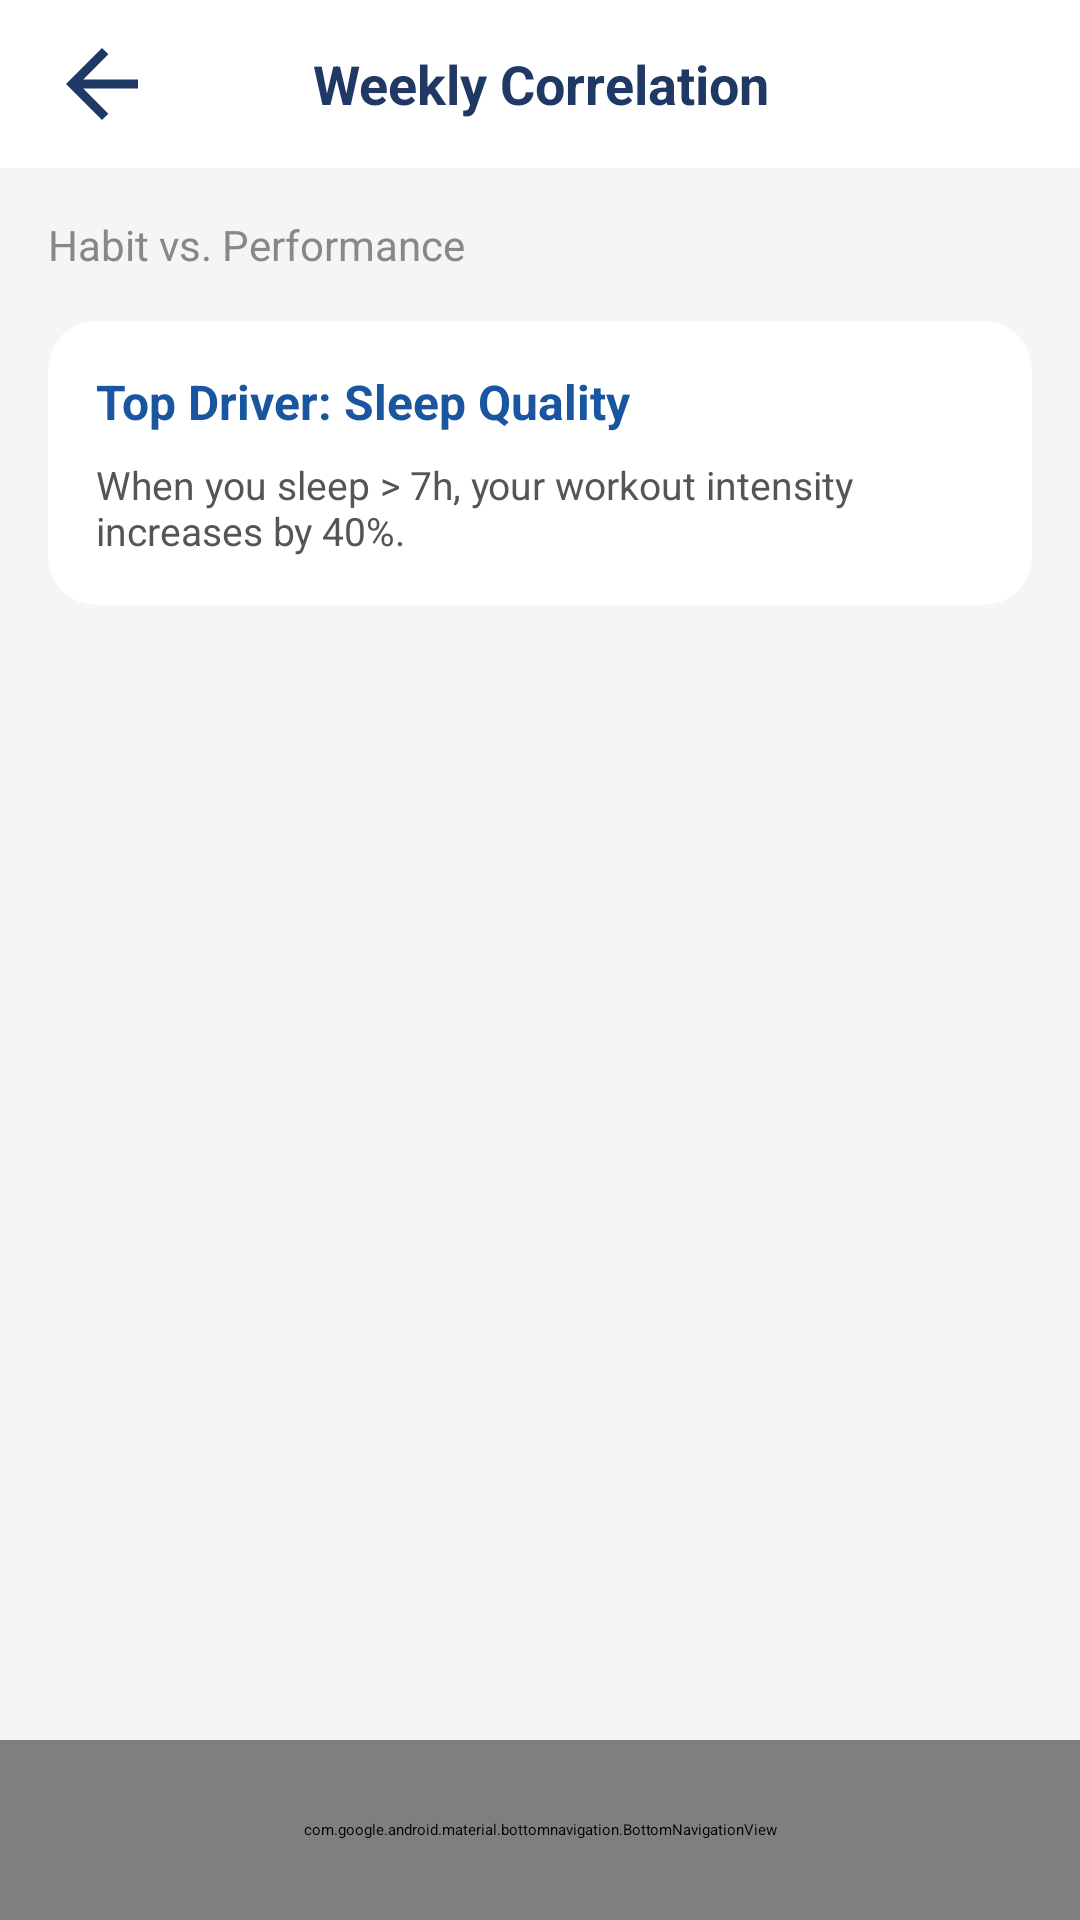

Where to tap for icons on this 1080×1920 app screen, as point (x, y):
back arrow: point (102, 84)
